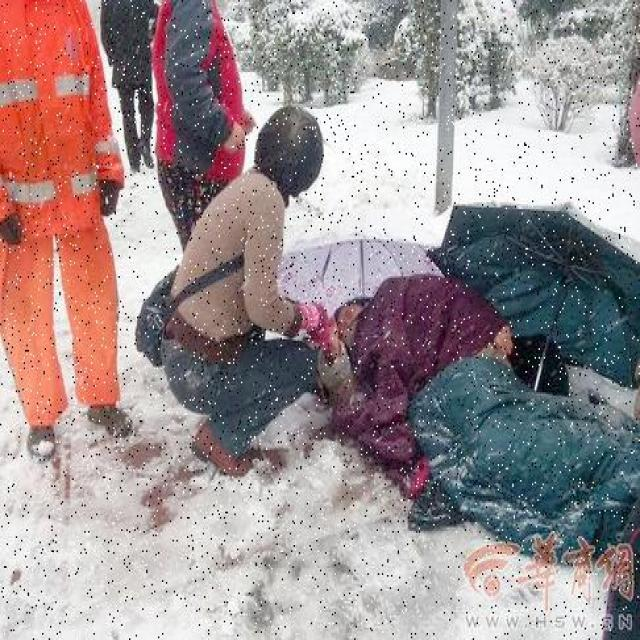fall: (324, 276, 599, 522)
